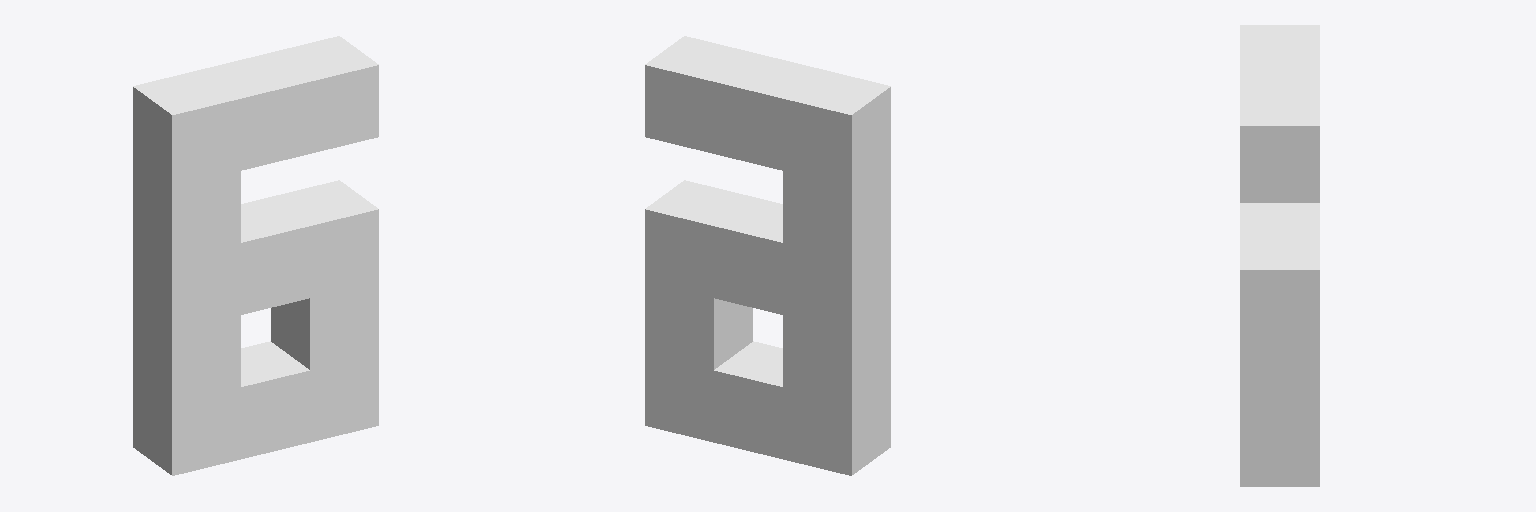
File: digit_6_r.obj
3 renders of one model, left to right at view 1: azimuth 30°, elevation 25°; view 2: azimuth 150°, elevation 25°; view 3: azimuth 270°, elevation 25°, orthographic.
Visible parts, largest first — view 1: object 1; view 2: object 1; view 3: object 1.
Boxes of the visible parts, x1,y1,x2,y2 form: object 1: [133, 36, 378, 475]; object 1: [645, 36, 890, 475]; object 1: [1240, 25, 1319, 486].
Bounding box in the file's own units: 0.6 × 1 × 0.2.